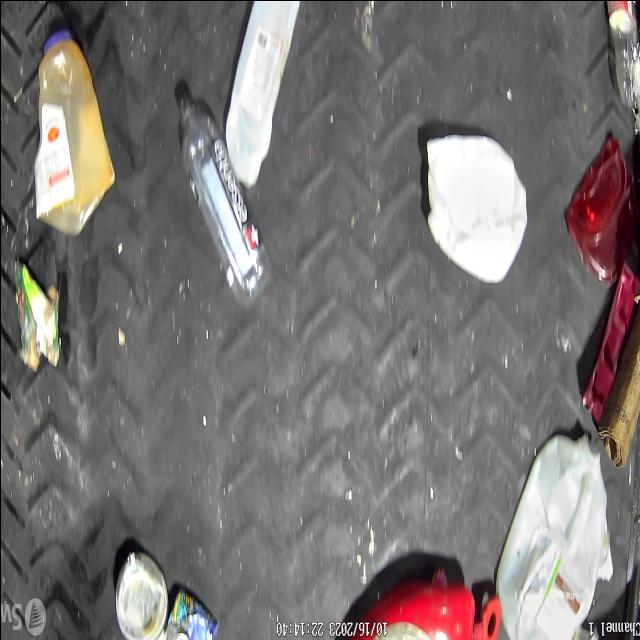milk_jug: (494, 433, 606, 640)
plastic_bottle: (176, 86, 272, 310), (605, 0, 640, 109)
